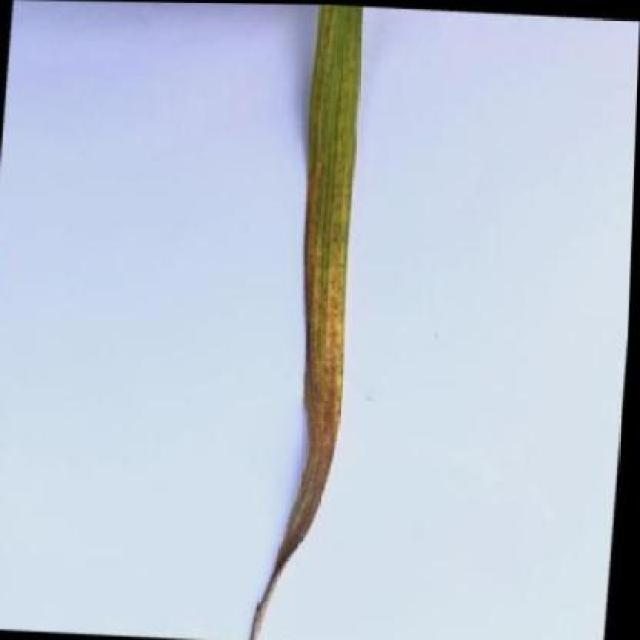Rice False Smut: (255, 4, 362, 640)
